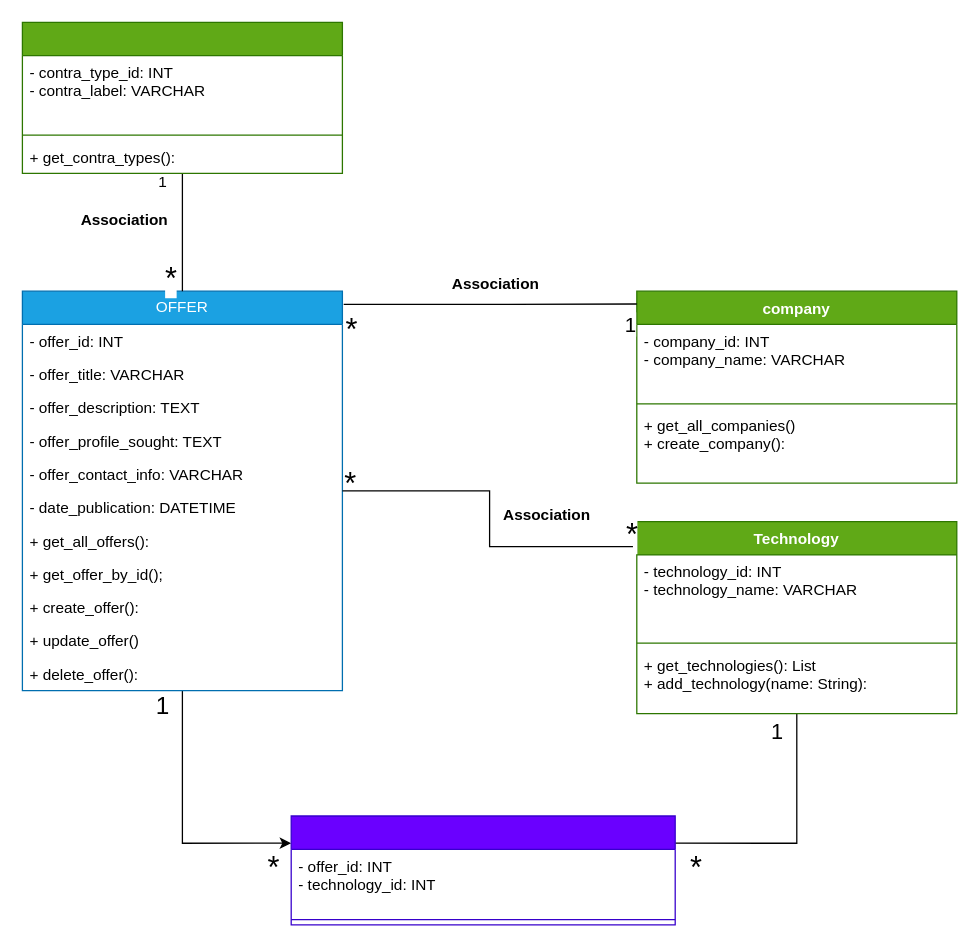
Some shapes in this 979 by 947 pixel diagram are drawn without their labels. The shapes that lost their labels are listed below. From the top down, each one's box as (x1, y1, x2, y2) in pixels, then its label:
(21, 21, 342, 173): Cotra_type
(290, 815, 675, 925): offer_technology
